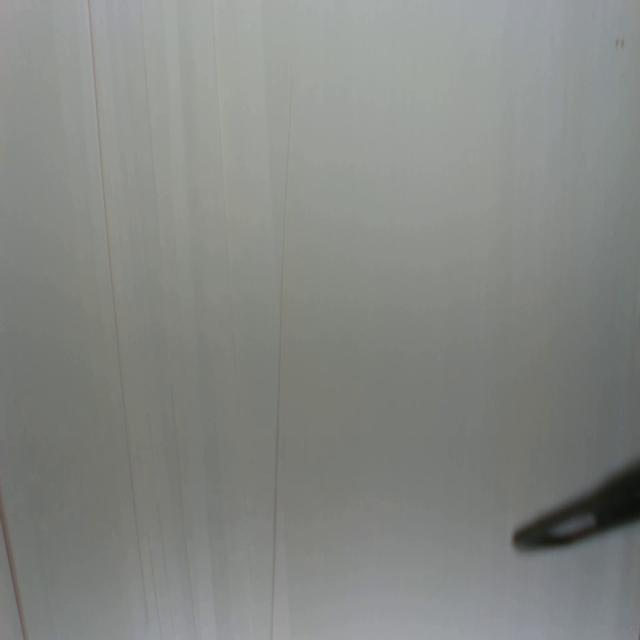crease: (86, 1, 149, 632), (272, 60, 295, 640), (212, 1, 239, 386), (170, 382, 198, 631), (0, 506, 29, 640)
hole: (592, 10, 597, 27), (621, 37, 626, 51), (616, 37, 620, 52)
